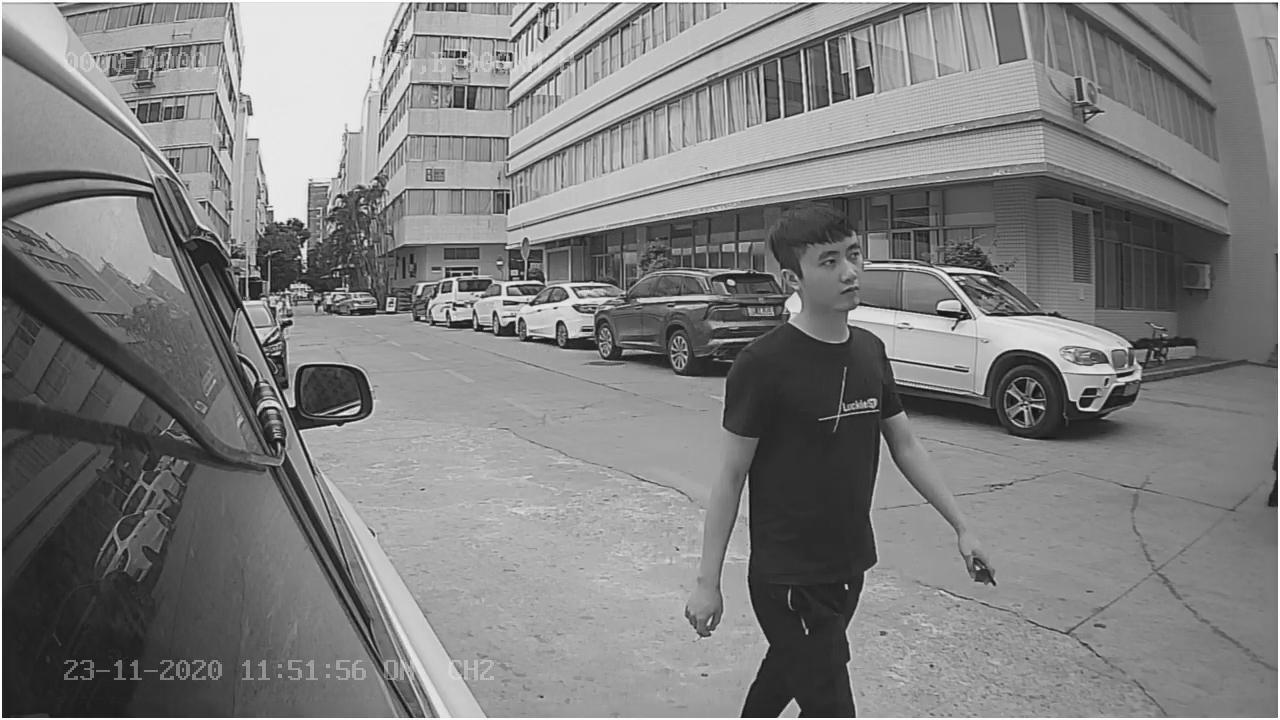person: (692, 202, 934, 504)
